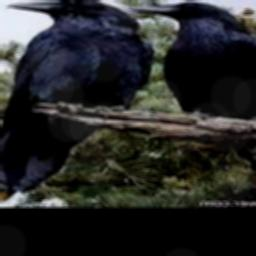Crow: (0, 0, 154, 197), (129, 1, 256, 122)
